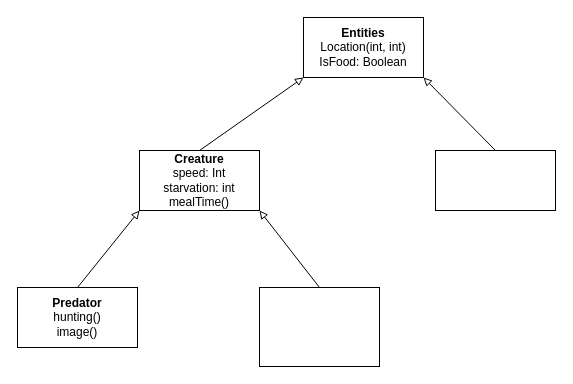
This 573x384 diagram has some shape labels left out. The shapes that lost their labels are listed below. From the top down, each one's centre as x and y in pixels, then its label:
At point (495, 180): "Food SpawnTimer: INT Eaten: Boolean isEdiable()".
At point (319, 326): "prey movement() danger() inDanger: Boolean image()".
